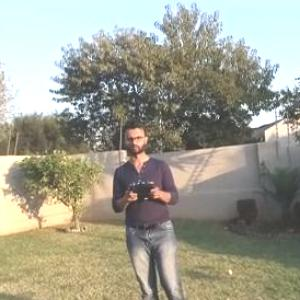follow: (106, 113, 192, 299)
